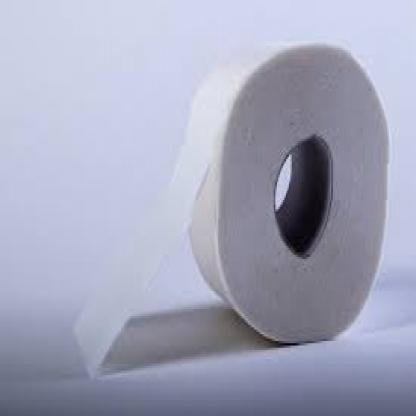tissue: (186, 31, 390, 344)
